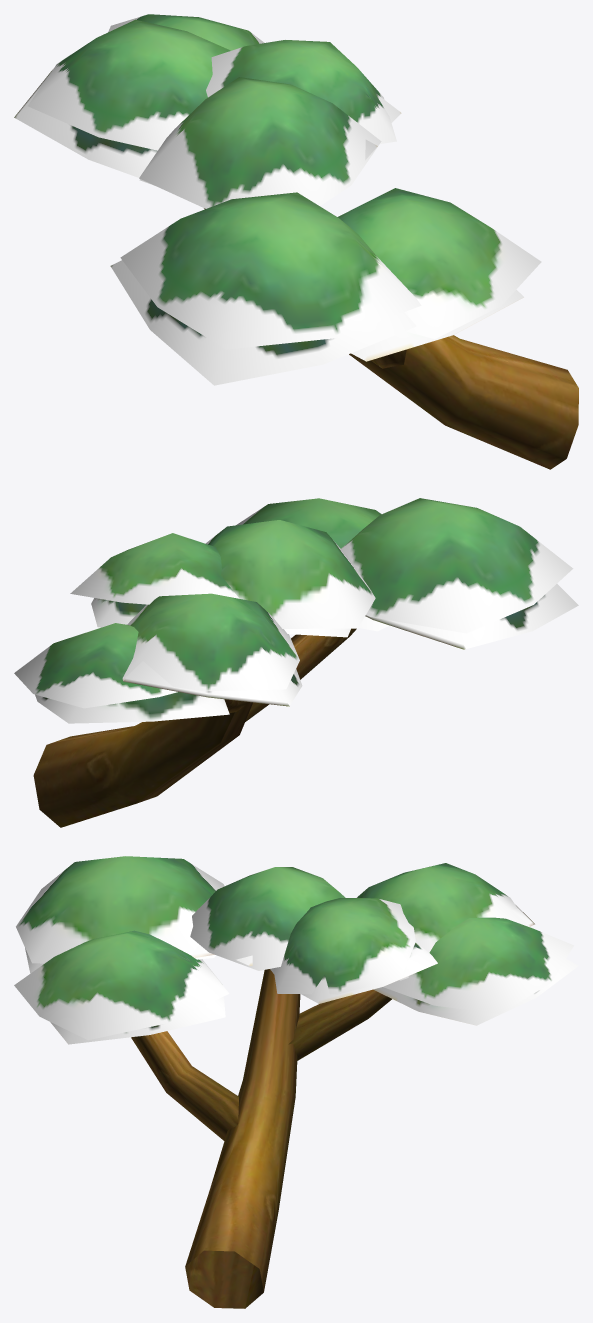
Rendered from gonghui_shu_01 (12).fbx.
3 renders of one model, top to bottom at view 1: azimuth 30°, elevation 25°; view 2: azimuth 150°, elevation 25°; view 3: azimuth 270°, elevation 25°, orthographic. The views are drawn at different scales.
Parts seen in each view (by area): view 1: gonghui_shu_01 (12), Cylinder049; view 2: gonghui_shu_01 (12), Cylinder049; view 3: gonghui_shu_01 (12), Cylinder049.
Boxes of the visible parts, x1,y1,x2,y2 form: gonghui_shu_01 (12): [14, 14, 541, 385]; Cylinder049: [204, 208, 578, 469]; gonghui_shu_01 (12): [14, 498, 578, 723]; Cylinder049: [33, 628, 356, 827]; gonghui_shu_01 (12): [14, 856, 578, 1044]; Cylinder049: [131, 969, 391, 1308].
Size of the model in its own units: 6.13 by 5.14 by 7.72.
